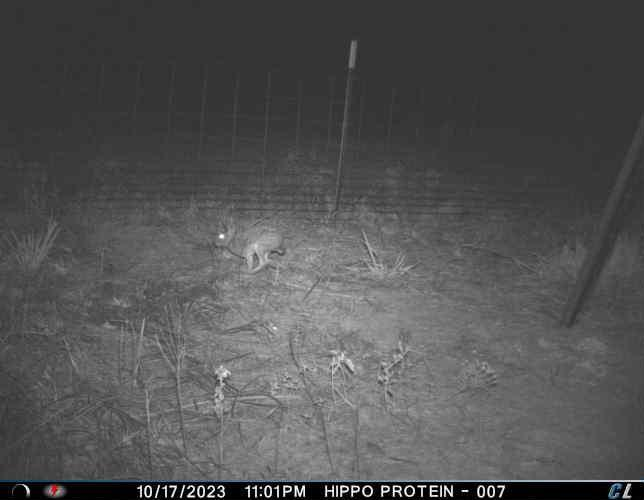Rabbit: (208, 204, 287, 277)
